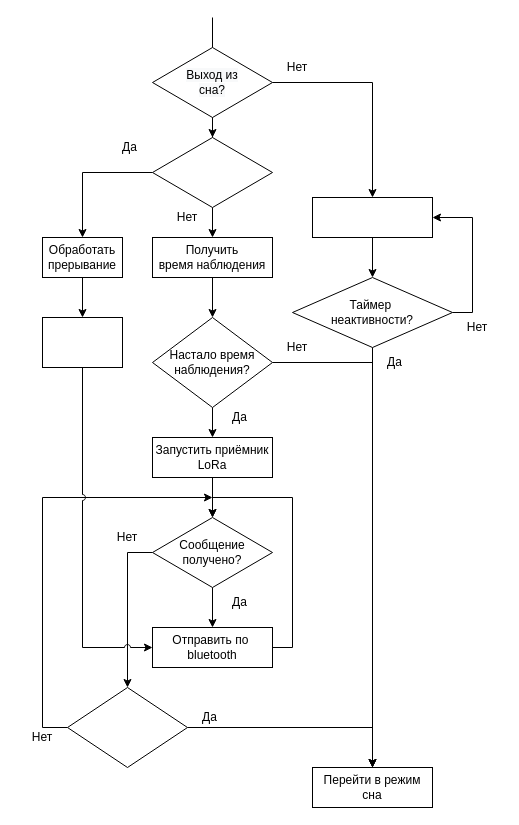
Image size: 519x825. Some labels were removed from this diagram. Each missing label, with the box of its shape:
Восстановить статус приемника: (42, 316, 122, 368)
Выход по прерыванию?: (152, 136, 272, 208)
Наблюдение завершено?: (66, 686, 188, 768)
Ожидать команду: (312, 196, 432, 238)
